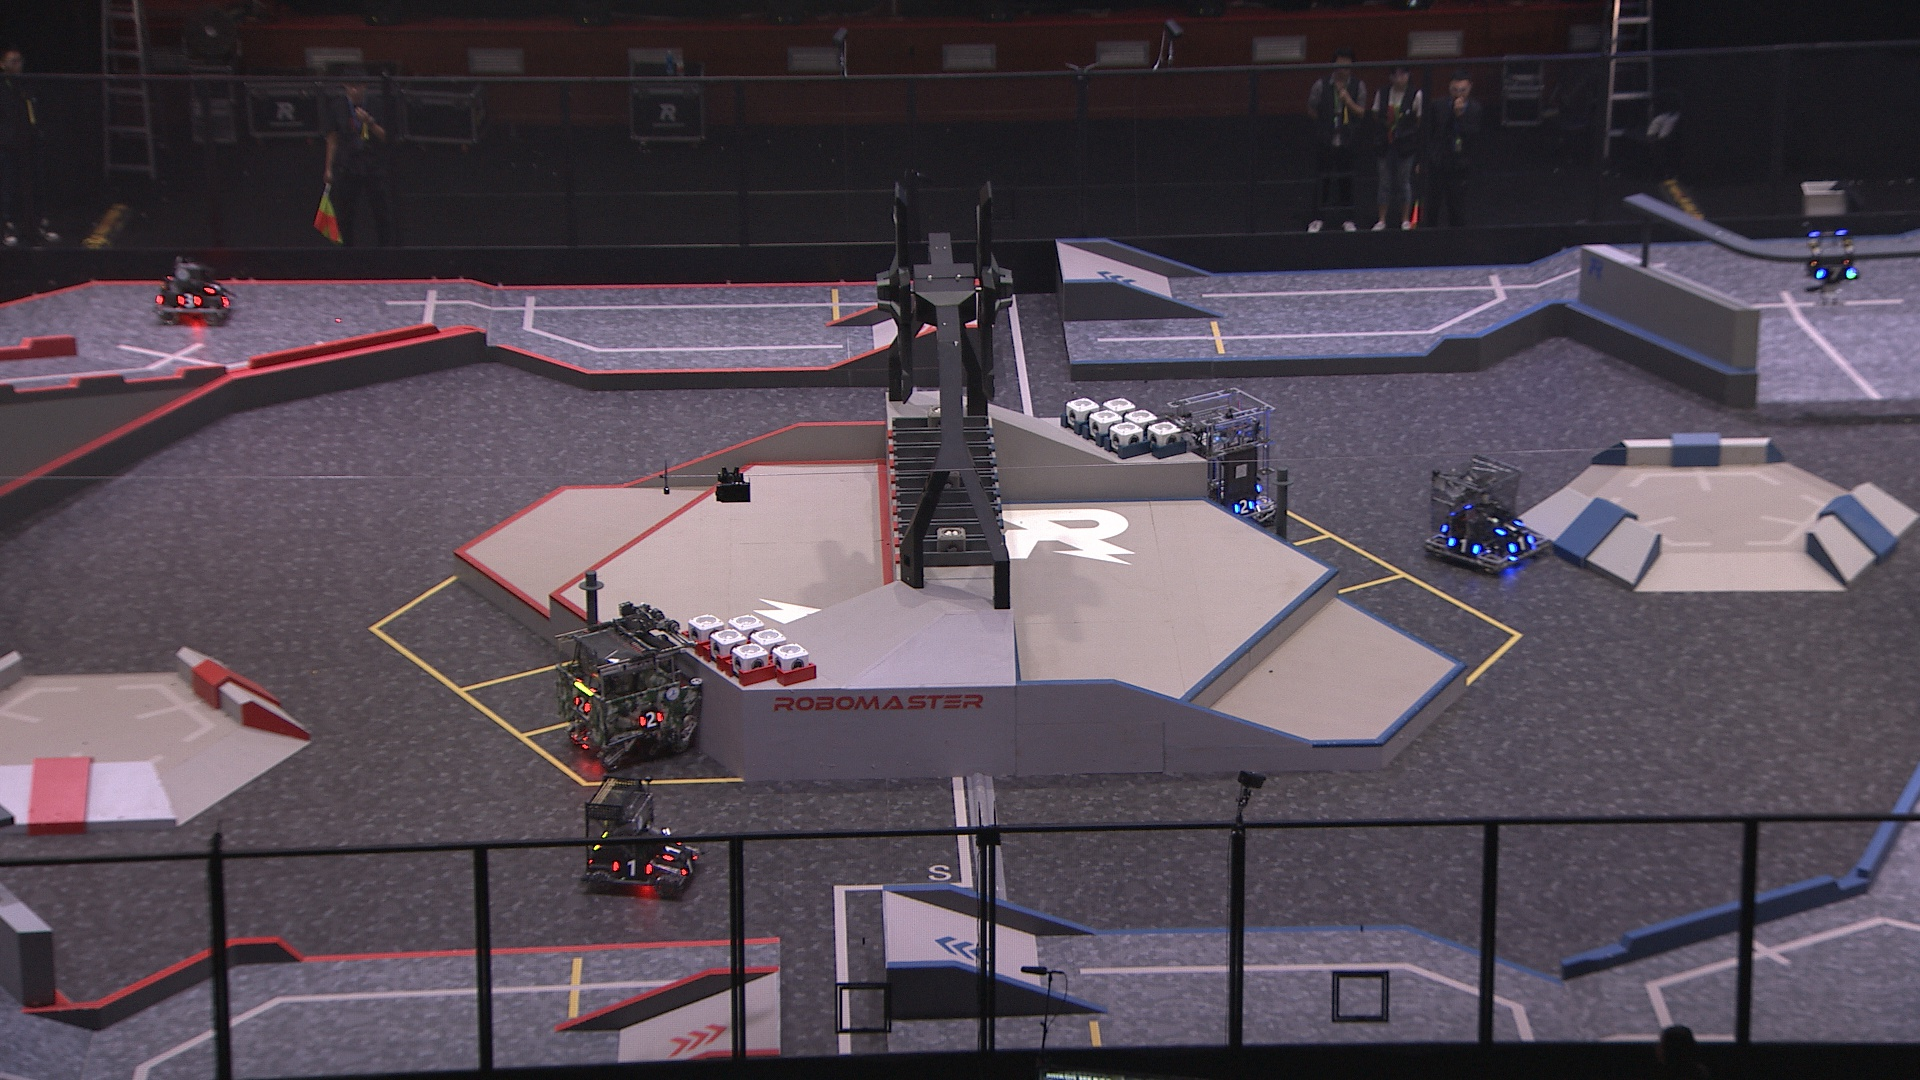armor: (608, 856, 655, 882), (1448, 533, 1482, 559), (1817, 262, 1855, 285), (1505, 531, 1538, 555), (655, 837, 683, 865), (678, 849, 702, 880), (638, 707, 665, 731), (173, 291, 204, 311), (1495, 516, 1520, 538), (1230, 495, 1255, 517), (572, 694, 593, 717), (200, 277, 225, 295)
car: (550, 617, 705, 770), (1154, 381, 1278, 529), (578, 777, 705, 905), (1422, 454, 1555, 574), (153, 257, 239, 327)
watcher: (1803, 224, 1863, 305)
